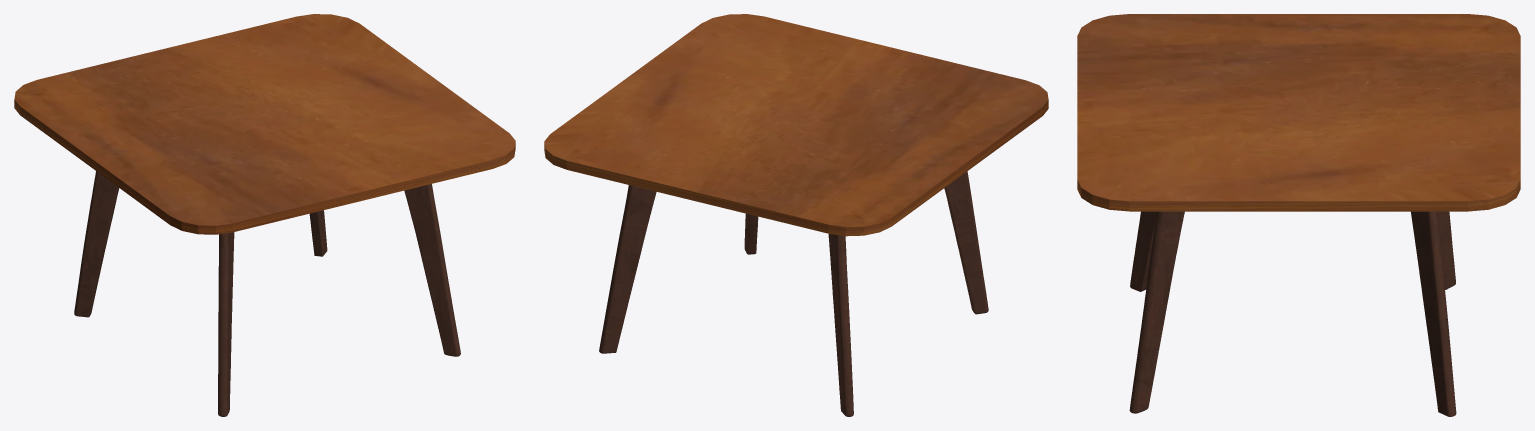
File: ND-0666__Livia_52.glb
3 renders of one model, left to right at view 1: azimuth 30°, elevation 25°; view 2: azimuth 150°, elevation 25°; view 3: azimuth 270°, elevation 25°, orthographic. The views are drawn at different scales.
Visible parts, largest first — view 1: Cube, Mesh_0.002; view 2: Cube, Mesh_0.002; view 3: Cube, Mesh_0.002.
Boxes of the visible parts, <box> form: Cube: <box>14,14,515,234</box>; Mesh_0.002: <box>74,171,460,416</box>; Cube: <box>544,14,1048,236</box>; Mesh_0.002: <box>599,171,988,416</box>; Cube: <box>1077,14,1520,211</box>; Mesh_0.002: <box>1129,211,1456,416</box>.
Size of the model in its own units: 1.3 by 0.7864 by 1.3.
2 materials, 2 textured.
